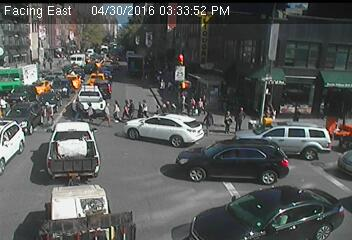neg: (40, 150, 83, 207), (256, 68, 287, 110), (260, 151, 287, 186), (186, 176, 211, 209), (219, 45, 244, 78), (180, 28, 200, 55), (119, 178, 137, 203), (99, 146, 117, 170), (314, 117, 327, 134), (139, 47, 147, 58), (119, 49, 127, 60), (105, 61, 112, 71)
